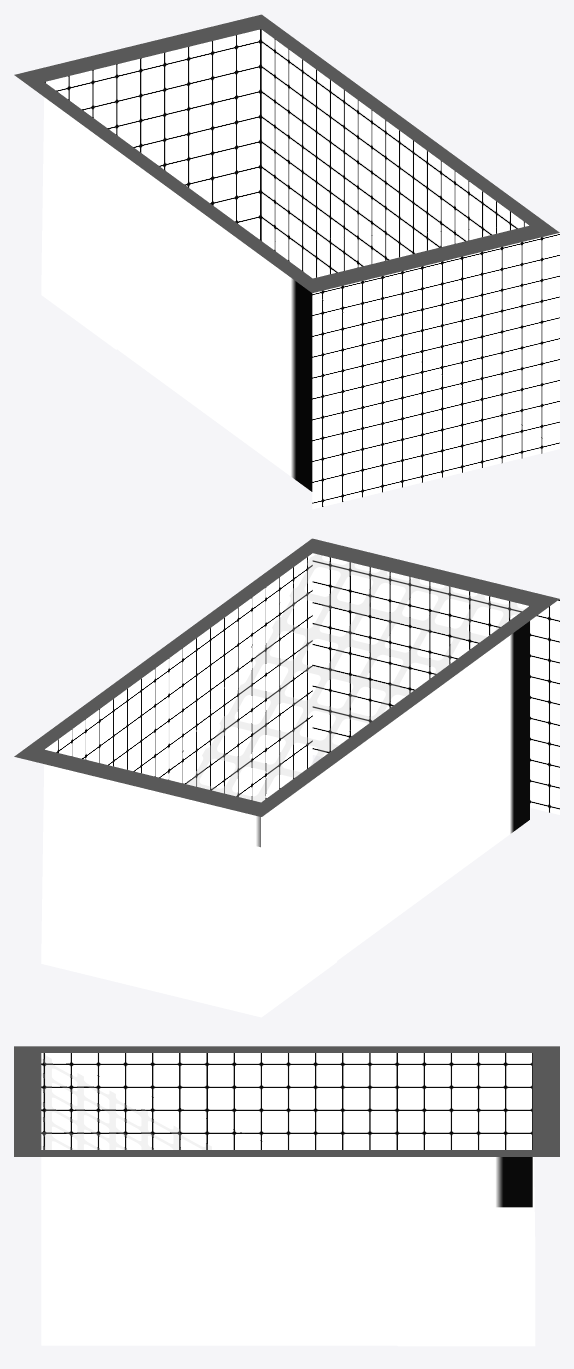
Rendered from dice_box_spaceship.glb.
The picture shows the model from 3 angles, top to bottom: view 1: azimuth 30°, elevation 25°; view 2: azimuth 150°, elevation 25°; view 3: azimuth 270°, elevation 25°; orthographic projection. The views are drawn at different scales.
Parts seen in each view (by area): view 1: DiceBox-col; view 2: DiceBox-col, BoxSlope-col; view 3: DiceBox-col, BoxSlope-col.
Boxes of the visible parts, bbox=[...] form: DiceBox-col: bbox=[14, 14, 559, 509]; DiceBox-col: bbox=[14, 538, 559, 1017]; BoxSlope-col: bbox=[187, 554, 523, 801]; DiceBox-col: bbox=[14, 1046, 559, 1346]; BoxSlope-col: bbox=[41, 1056, 211, 1149].
Size of the model in its own units: 4.8 by 4 by 10.
Materials: 3 (3 with a texture image).
